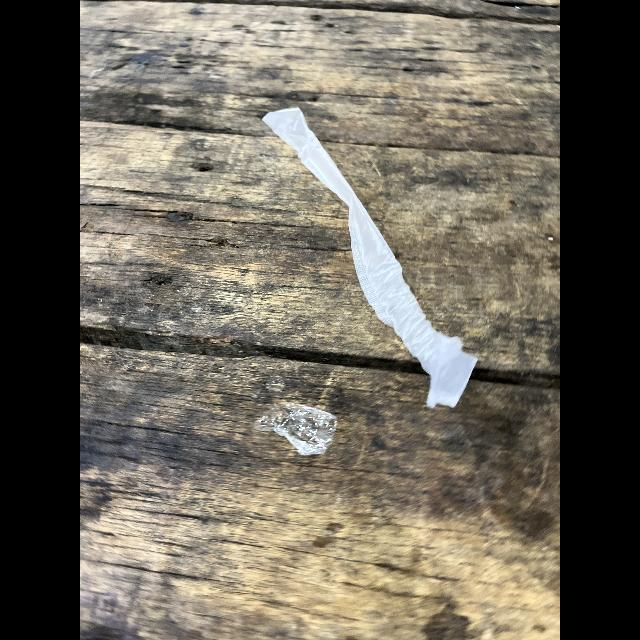scrap_plastic: (262, 100, 484, 410), (257, 394, 353, 462)
